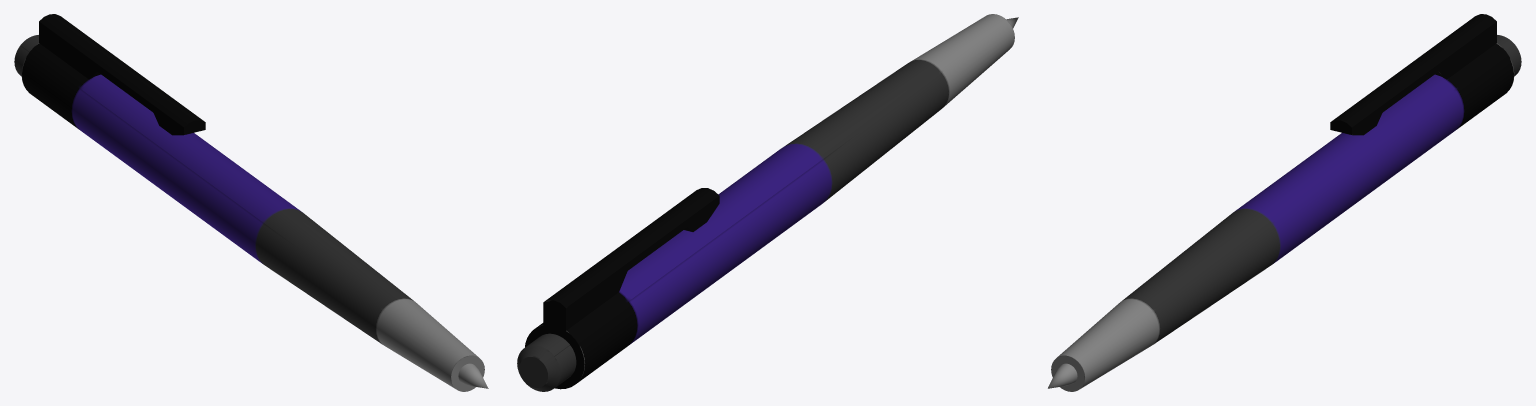
Rendered from Pen.fbx.
The picture shows the model from 3 angles, left to right: view 1: azimuth 30°, elevation 25°; view 2: azimuth 150°, elevation 25°; view 3: azimuth 330°, elevation 25°; orthographic projection. The views are drawn at different scales.
Visible parts, largest first — view 1: PenMerged; view 2: PenMerged; view 3: PenMerged.
Boxes of the visible parts, box(x1,y1,x2,y2) form: PenMerged: box(14, 14, 488, 391); PenMerged: box(517, 14, 1018, 391); PenMerged: box(1048, 14, 1521, 391).
Size of the model in its own units: 1 by 1.4 by 14.04.
